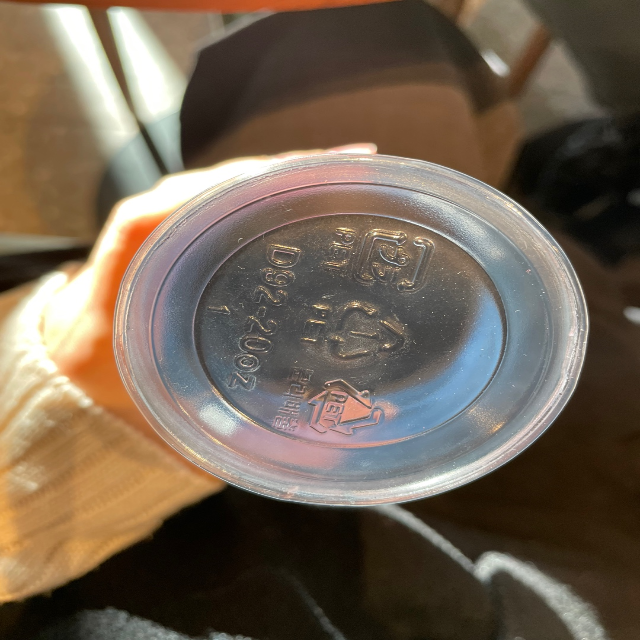pet: (269, 365, 394, 439), (296, 294, 410, 369), (320, 222, 436, 294)
